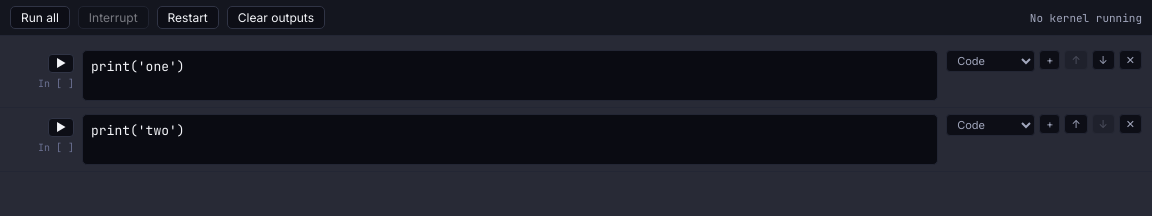
Scenario: running a cell › renders a stream output in the shape the kernel actually sends
Click the button named "Run cell 1". click: (61, 64)
box: [48, 54, 74, 73]
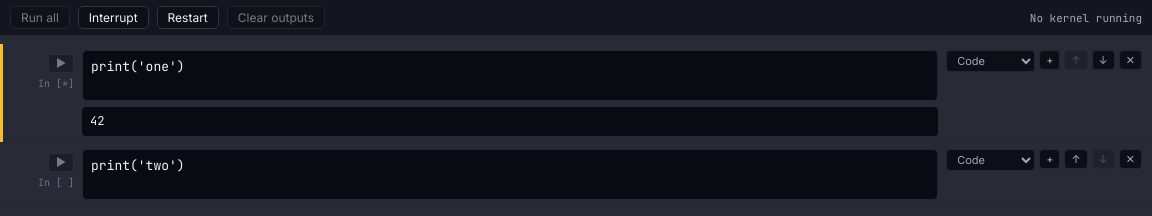
Now the element named "Cell output" reads "42", box [90, 113, 104, 129]
